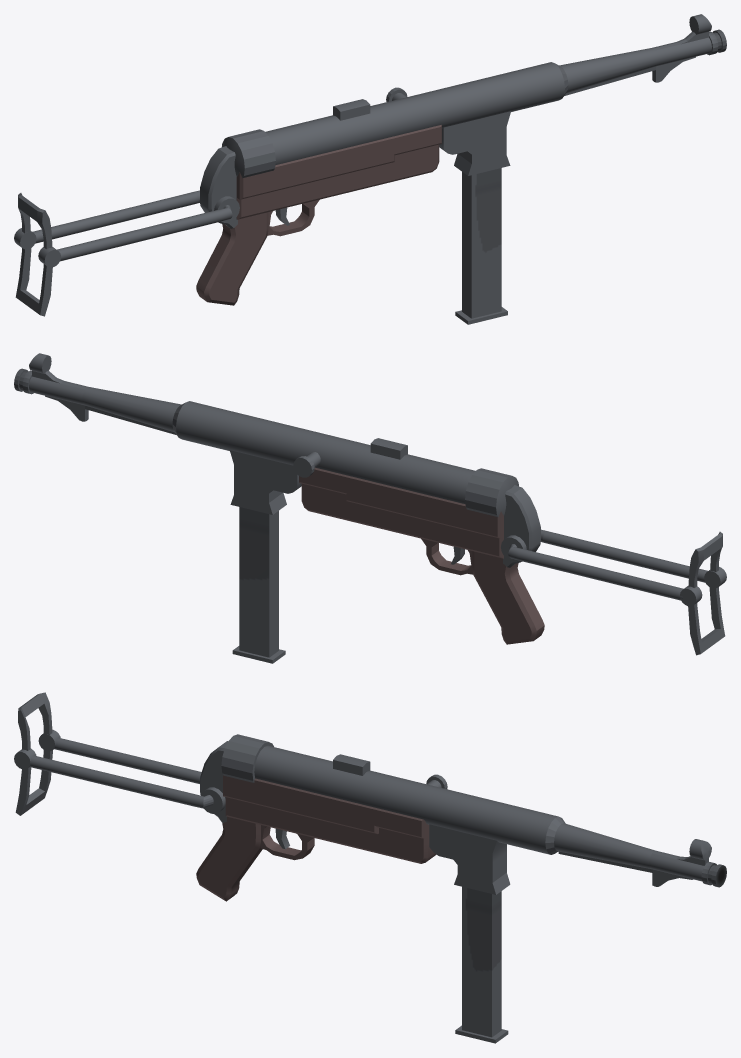
3 views of the same model, one above another, from view 1: azimuth 30°, elevation 25°; view 2: azimuth 150°, elevation 25°; view 3: azimuth 330°, elevation 25° (orthographic).
Visible parts, largest first — view 1: MP40, MP40_Magazine1, MP40_Stock, MP40_Shoulder; view 2: MP40, MP40_Magazine1, MP40_Stock, MP40_Shoulder; view 3: MP40, MP40_Magazine1, MP40_Stock, MP40_Shoulder.
Part boxes in pixels (x1,y1,x2,y2): MP40: [196, 14, 726, 305]; MP40_Magazine1: [455, 168, 507, 324]; MP40_Stock: [14, 190, 239, 267]; MP40_Shoulder: [15, 193, 52, 316]; MP40: [14, 353, 544, 644]; MP40_Magazine1: [232, 507, 285, 663]; MP40_Stock: [501, 529, 726, 606]; MP40_Shoulder: [688, 531, 725, 655]; MP40: [196, 734, 726, 901]; MP40_Magazine1: [455, 886, 508, 1043]; MP40_Stock: [14, 729, 225, 813]; MP40_Shoulder: [15, 692, 52, 815].
Bounding box in the file's own units: 84.1 × 28.55 × 7.74.
2 materials, 2 textured.
